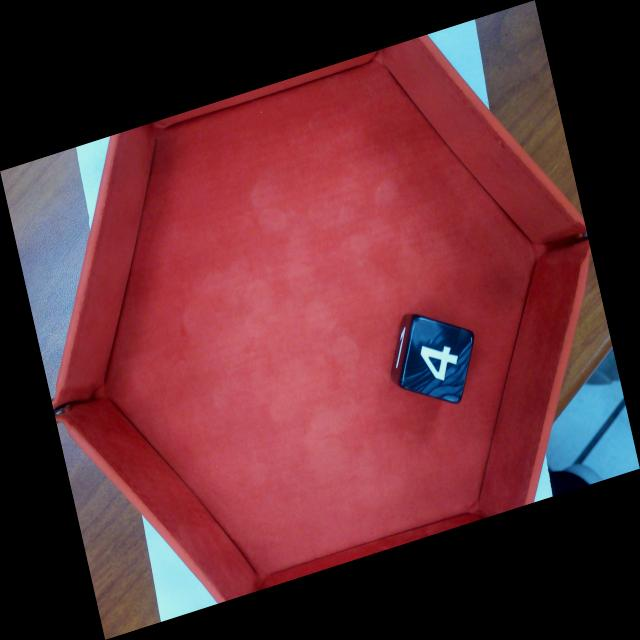dice: (402, 317, 474, 405)
